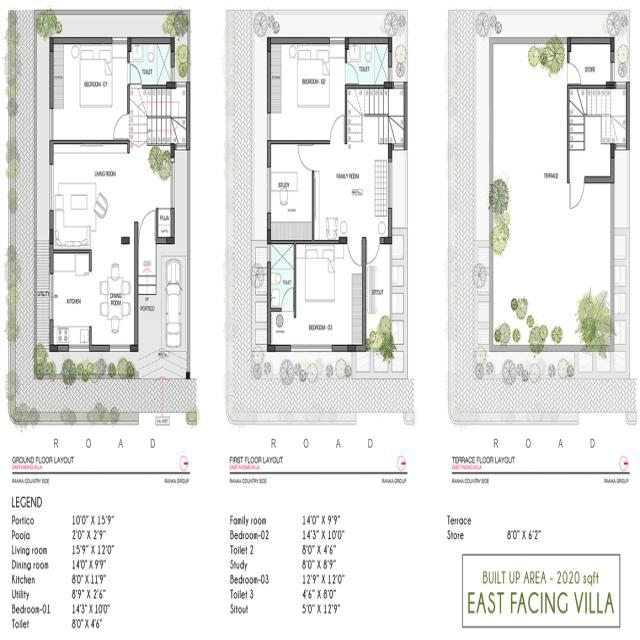Balcony-Sitout: (366, 244, 392, 350)
Bedroom: (267, 38, 347, 143)
Bedroom with Toilet: (49, 37, 174, 142), (267, 242, 366, 351)
Dining: (99, 259, 130, 336)
Kitchen: (49, 252, 92, 352)
Living: (50, 140, 135, 252), (313, 145, 393, 243)
Toilet: (128, 37, 175, 90), (346, 37, 392, 90)
